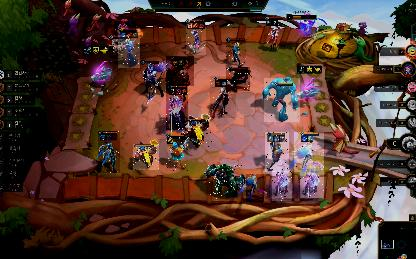1_bard: (133, 144, 159, 170)
1_malphite: (206, 165, 242, 199)
1_nomsy: (114, 21, 136, 35)
1_soraka: (246, 174, 264, 202)
1_yasuo: (300, 172, 324, 198), (272, 171, 292, 201)
2_bard: (180, 117, 212, 147)
2_ezreal: (226, 38, 246, 64)
2_kaisa: (98, 131, 120, 173)
2_nilah: (265, 132, 289, 172)
2_pantheon: (140, 60, 162, 98)
2_rakan: (210, 76, 236, 118), (226, 67, 250, 91)
2_soraka: (294, 132, 324, 172)
2_twitch: (109, 36, 123, 50)
2_varus: (186, 19, 206, 55)
2_xayah: (265, 15, 285, 51)
2_yasuo: (166, 84, 188, 130)
2_zac: (264, 78, 300, 122)
2_zeri: (166, 135, 188, 171)
3_braum: (166, 56, 194, 86)
3_yone: (118, 28, 140, 68)
